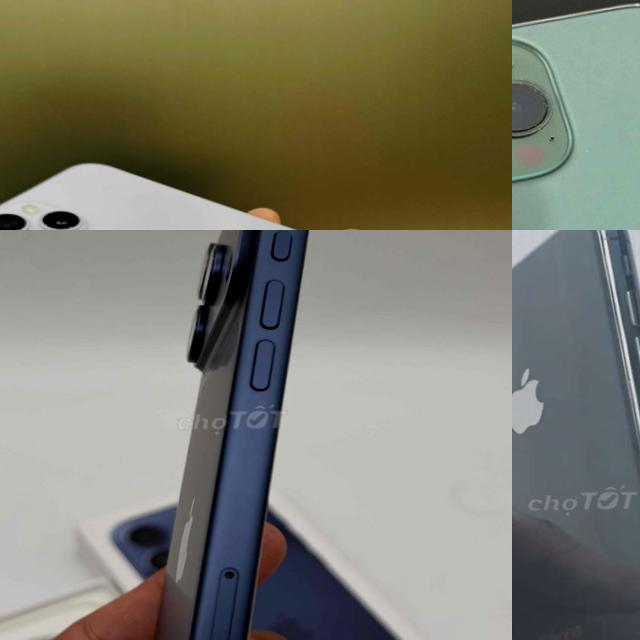gen_12_13: (512, 0, 640, 230)
gen_14: (0, 153, 459, 230)
gen_17: (119, 230, 377, 640)
gen_x_xs: (512, 230, 640, 640)
